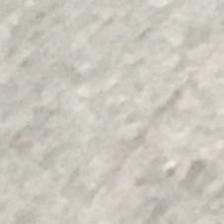Non_Crack: (39, 35, 211, 189)
